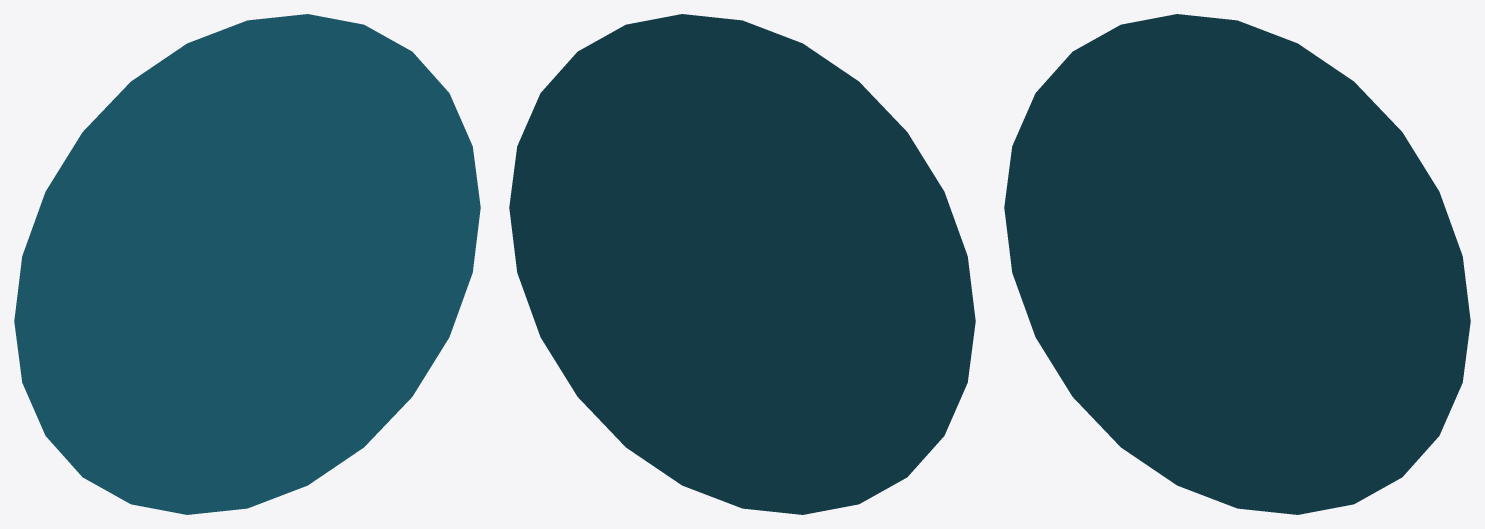
File: original-12.obj
3 views of the same model, side by side, from view 1: azimuth 30°, elevation 25°; view 2: azimuth 150°, elevation 25°; view 3: azimuth 330°, elevation 25° (orthographic).
Parts seen in each view (by area): view 1: mesh2/mesh2-geometry/material_2/component_5#mesh2-geometry; view 2: mesh2/mesh2-geometry/material_2/component_5#mesh2-geometry; view 3: mesh2/mesh2-geometry/material_2/component_5#mesh2-geometry.
Part boxes in pixels (box(x1,y1,x2,y2)): mesh2/mesh2-geometry/material_2/component_5#mesh2-geometry: box(14, 14, 480, 514); mesh2/mesh2-geometry/material_2/component_5#mesh2-geometry: box(509, 14, 975, 514); mesh2/mesh2-geometry/material_2/component_5#mesh2-geometry: box(1004, 14, 1470, 514).
Bounding box in the file's own units: 0.0445 × 0.0445 × 0.
